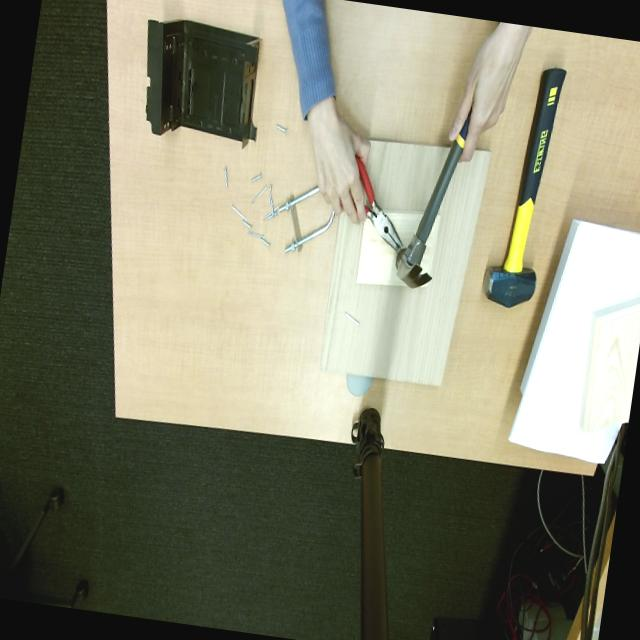hammer: (484, 68, 566, 307), (396, 112, 470, 288)
pliers: (356, 155, 403, 252)
